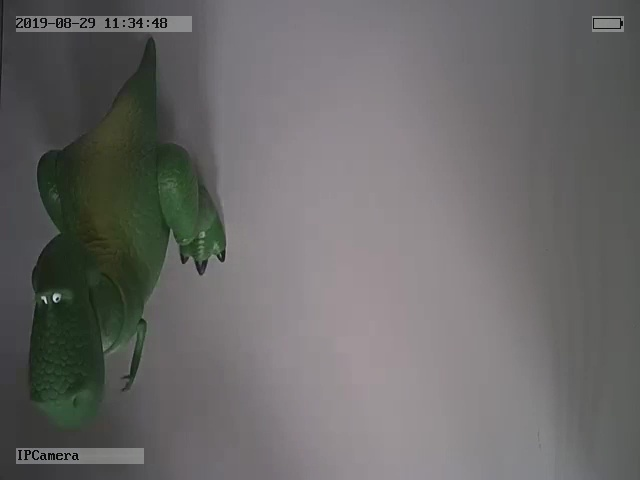rex: (27, 36, 230, 430)
